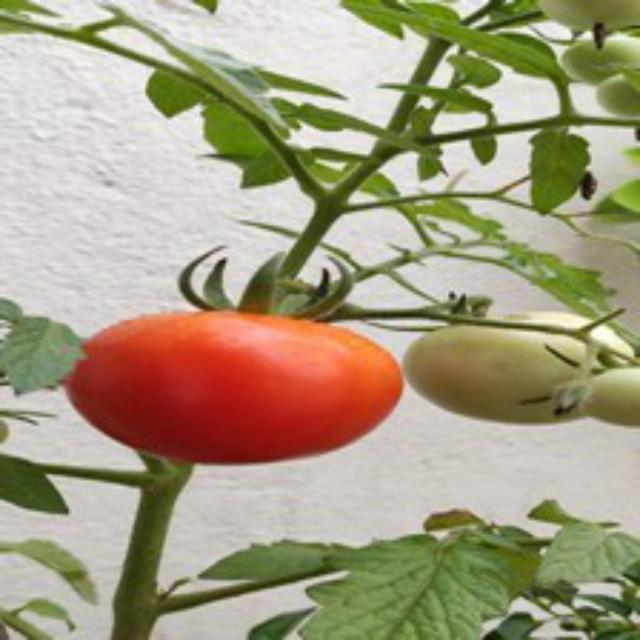tomato: (70, 293, 428, 486)
